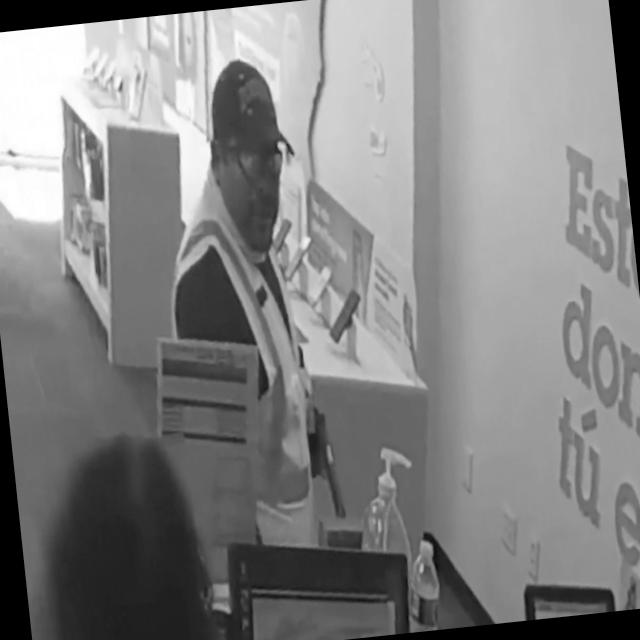gun: (304, 404, 348, 524)
person with a gun: (143, 52, 350, 559)
